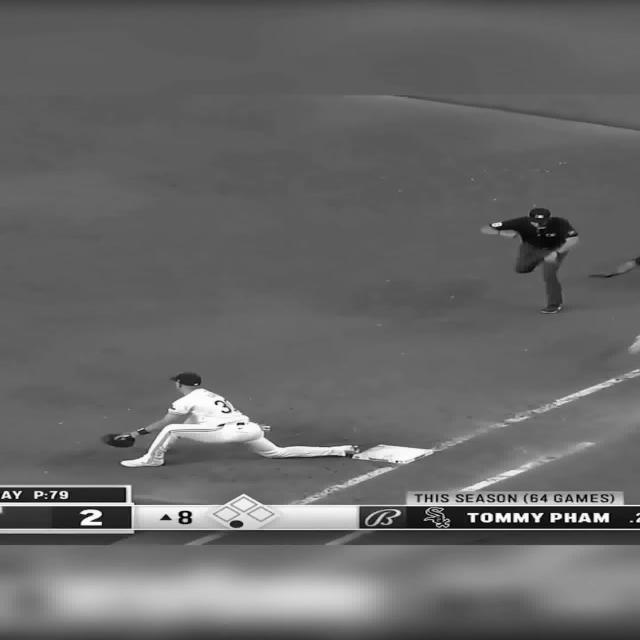base: (363, 445, 442, 462)
baseball_glove: (104, 432, 136, 448)
shoe: (120, 455, 164, 467), (540, 304, 562, 314), (342, 445, 360, 457)
